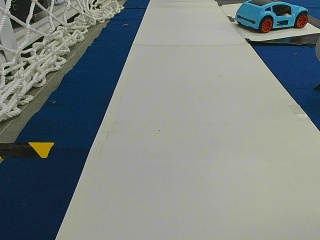car: (234, 2, 308, 31)
